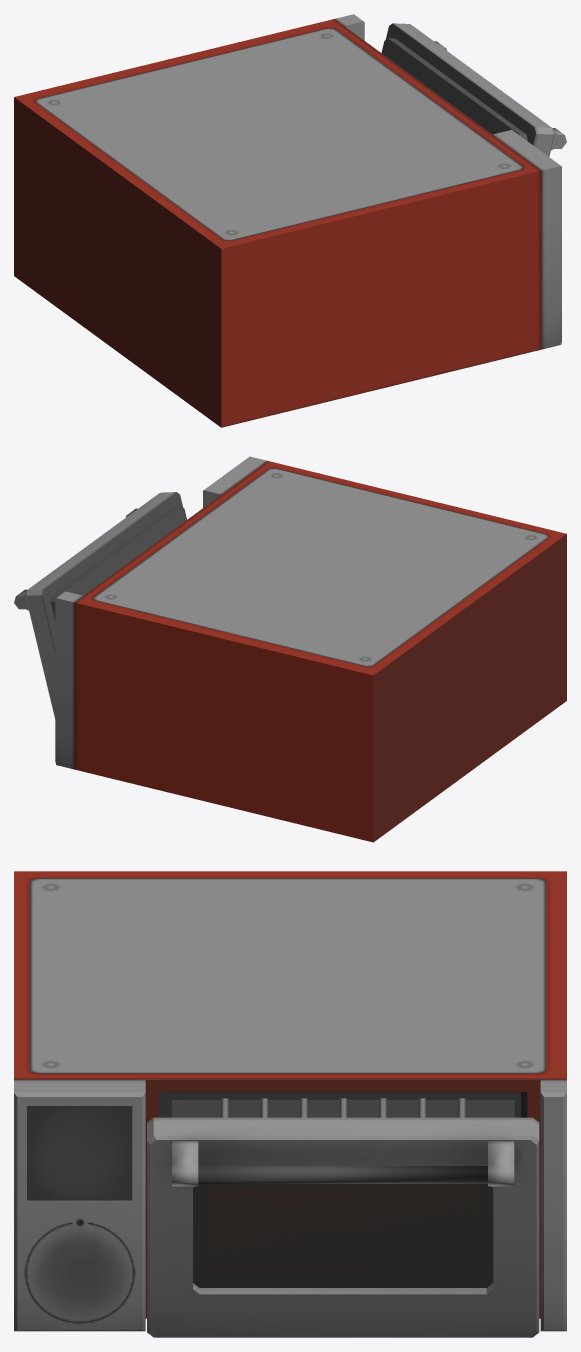
Rendered from ovenopen.gltf.
The picture shows the model from 3 angles, top to bottom: view 1: azimuth 30°, elevation 25°; view 2: azimuth 150°, elevation 25°; view 3: azimuth 270°, elevation 25°; orthographic projection. The views are drawn at different scales.
Visible parts, largest first — view 1: Cube.001, Cube.002; view 2: Cube.001, Cube.002; view 3: Cube.001, Cube.002.
Boxes of the visible parts, x1,y1,x2,y2 form: Cube.001: [14, 14, 561, 427]; Cube.002: [381, 23, 566, 156]; Cube.001: [55, 456, 566, 842]; Cube.002: [14, 492, 186, 718]; Cube.001: [14, 871, 566, 1331]; Cube.002: [147, 1117, 539, 1337].
Size of the model in its own units: 2.37 by 1.03 by 2.1.
